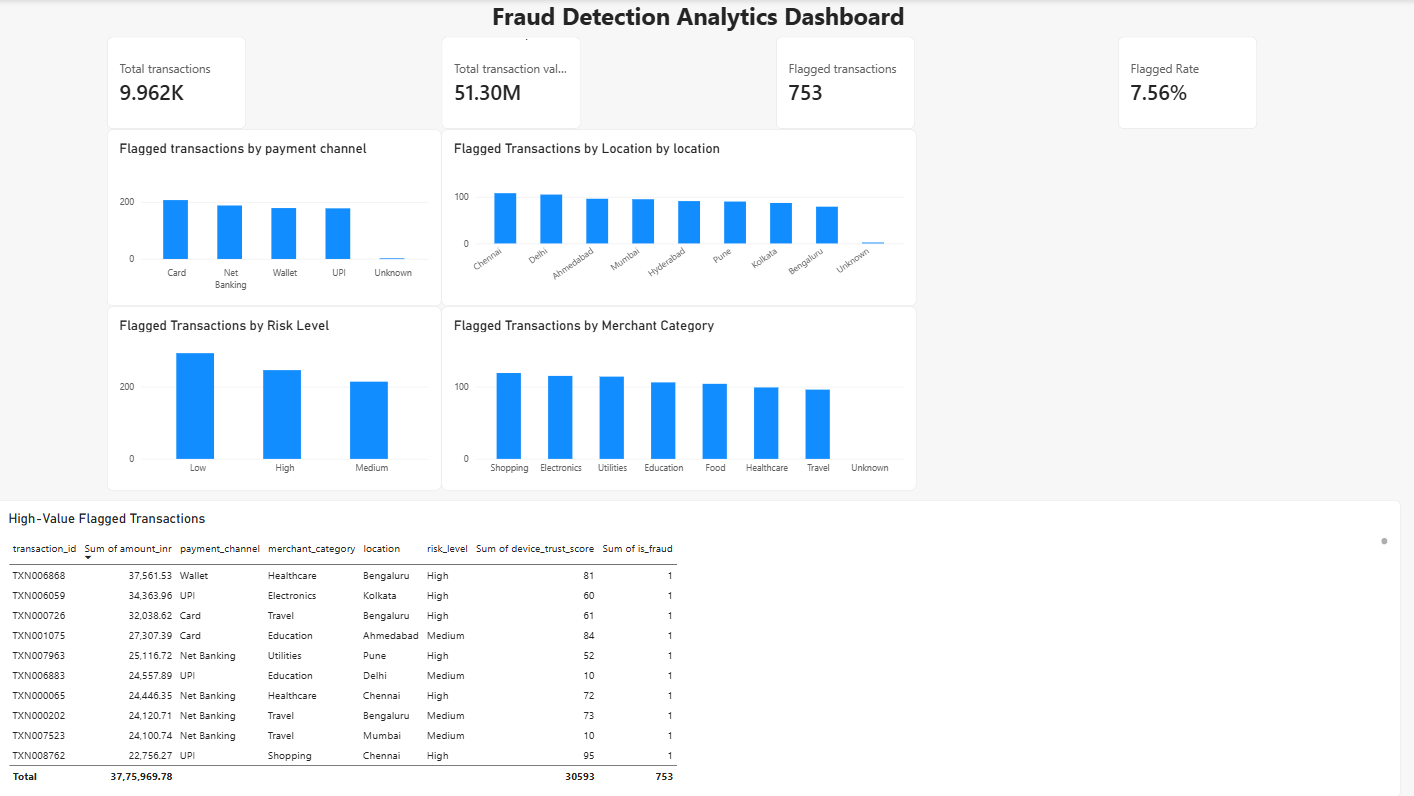

What the dashboard file says about the page in this screenshot:
{"tool":"powerbi","page":{"name":"Page 1","canvas":[1920,1080],"ordinal":0},"visuals":[{"type":"cardVisual","fields":{"Data":["CountNonNull(transactions.transaction_id)"]},"box":[150,51.7,188.3,125],"z":0},{"type":"cardVisual","fields":{"Data":["Sum(transactions.amount_inr)"]},"box":[601.7,51.7,188.3,125],"z":1},{"type":"cardVisual","fields":{"Data":["Sum(transactions.is_fraud)"]},"box":[1055,51.7,188.3,125],"z":2},{"type":"cardVisual","fields":{"Data":["transactions.Flagged Rate"]},"box":[1516.7,51.7,188.3,125],"z":3},{"type":"clusteredColumnChart","title":"Flagged transactions by payment channel","fields":{"Category":["transactions.payment_channel"],"Y":["Sum(transactions.is_fraud)"]},"box":[150,176.7,451.7,238.3],"z":4},{"type":"clusteredColumnChart","fields":{"Category":["transactions.location"],"Y":["Sum(transactions.is_fraud)"]},"box":[601.7,176.7,641.7,238.3],"z":5},{"type":"clusteredColumnChart","title":" Flagged Transactions by Risk Level","fields":{"Category":["transactions.risk_level"],"Y":["Sum(transactions.is_fraud)"]},"box":[150,415,451.7,248.3],"z":6},{"type":"clusteredColumnChart","title":"Flagged Transactions by Merchant Category","fields":{"Category":["transactions.merchant_category"],"Y":["Sum(transactions.is_fraud)"]},"box":[601.7,415,641.7,248.3],"z":7},{"type":"tableEx","title":"High-Value Flagged Transactions","fields":{"Values":["transactions.transaction_id","Sum(transactions.amount_inr)","transactions.payment_channel","transactions.merchant_category","transactions.location","transactions.risk_level","Sum(transactions.device_trust_score)","Sum(transactions.is_fraud)"]},"box":[0,676.7,1898.3,403.3],"z":8},{"type":"textbox","box":[668.3,0,560,51.7],"z":10},{"type":"textbox","box":[715,40,512.5,25],"z":11}]}

Visuals, with their boxes in screenshot pixels (x1, y1, x2, y2), scaled from the page's 1920x1080 canvas onto the 1414x796 screenshot:
cardVisual - CountNonNull(transactions.transaction_id): 110, 38, 249, 130
cardVisual - Sum(transactions.amount_inr): 443, 38, 582, 130
cardVisual - Sum(transactions.is_fraud): 777, 38, 916, 130
cardVisual - transactions.Flagged Rate: 1117, 38, 1256, 130
"Flagged transactions by payment channel" clusteredColumnChart: 110, 130, 443, 306
clusteredColumnChart - transactions.location x Sum(transactions.is_fraud): 443, 130, 916, 306
" Flagged Transactions by Risk Level" clusteredColumnChart: 110, 306, 443, 489
"Flagged Transactions by Merchant Category" clusteredColumnChart: 443, 306, 916, 489
"High-Value Flagged Transactions" tableEx: 0, 499, 1398, 795
textbox: 492, 0, 905, 38
textbox: 527, 29, 904, 48
